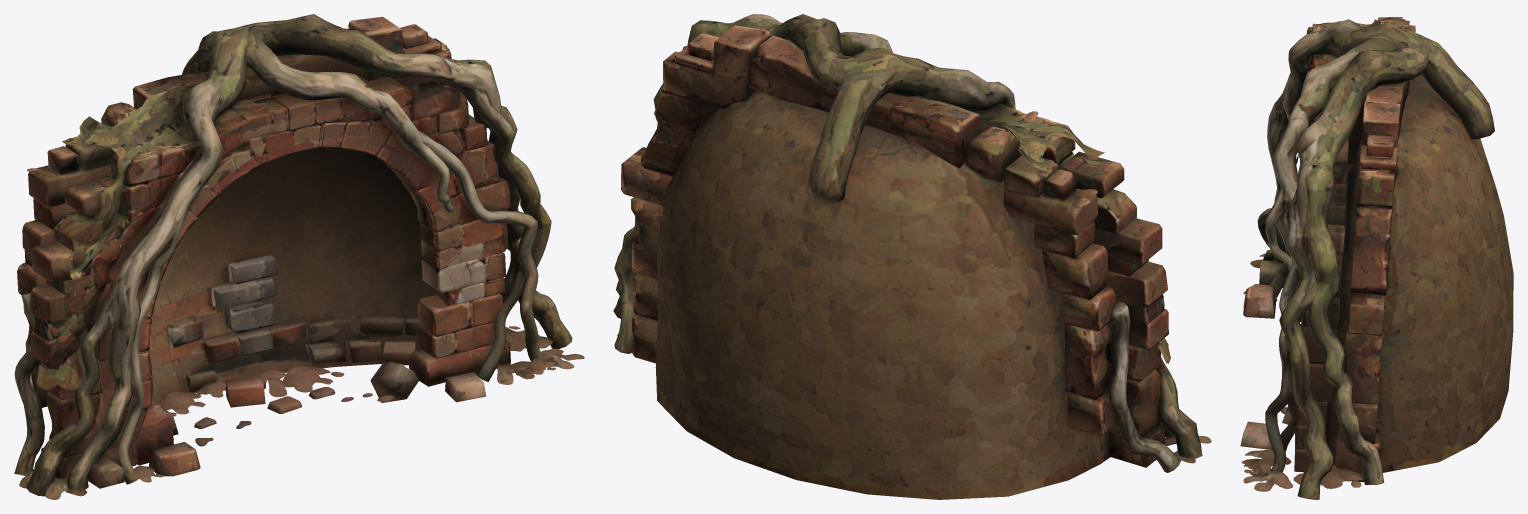
The model's file is act1-a13-5-root-wall-bay.glb.
3 renders of one model, left to right at view 1: azimuth 30°, elevation 25°; view 2: azimuth 150°, elevation 25°; view 3: azimuth 270°, elevation 25°, orthographic. The views are drawn at different scales.
Visible parts, largest first — view 1: act1-a13-5-root-wall-bay; view 2: act1-a13-5-root-wall-bay; view 3: act1-a13-5-root-wall-bay.
Boxes of the visible parts, <box> form: act1-a13-5-root-wall-bay: <box>14,14,584,499</box>; act1-a13-5-root-wall-bay: <box>613,14,1211,499</box>; act1-a13-5-root-wall-bay: <box>1240,17,1513,499</box>.
Size of the model in its own units: 5.4 by 3.52 by 2.39.
1 material, 1 textured.
